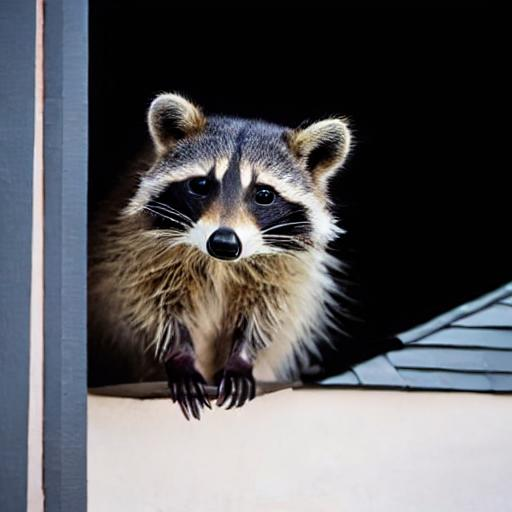raccoon: (91, 85, 362, 373)
